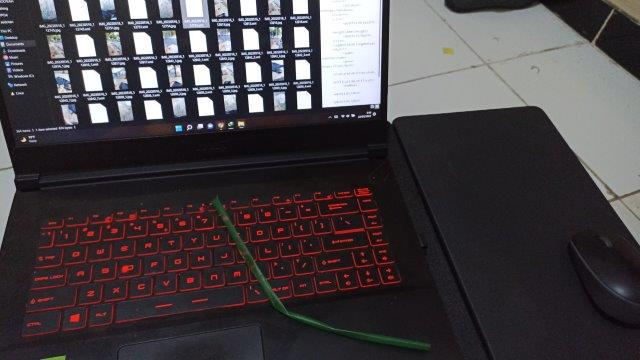sedotan: (213, 198, 430, 347)
